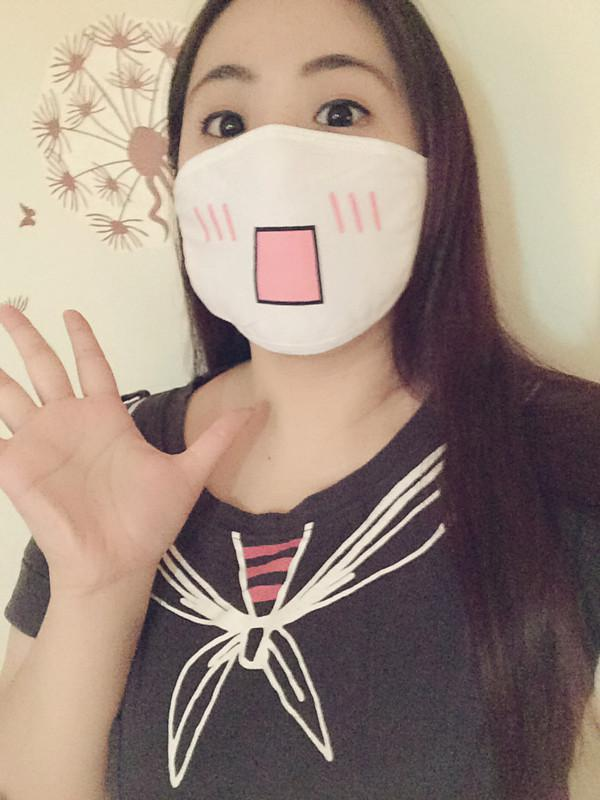OK: (160, 51, 456, 347)
